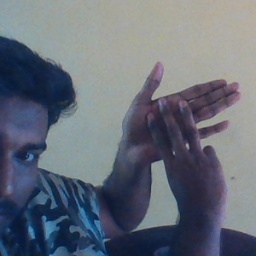M: (116, 59, 240, 204)
